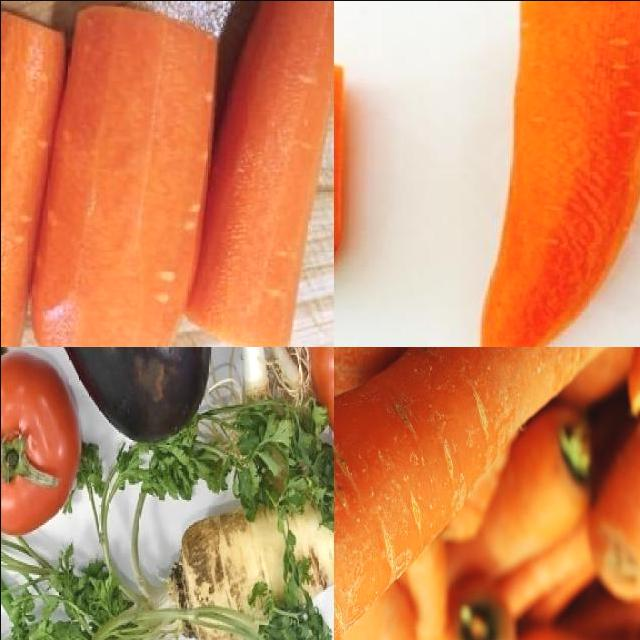carrot: (334, 347, 640, 640), (31, 1, 219, 347), (460, 1, 640, 347), (188, 1, 334, 347), (334, 347, 452, 640), (1, 1, 70, 347), (334, 347, 415, 640), (595, 347, 640, 598), (404, 584, 517, 640)
eggplant: (1, 347, 208, 445)
tomato: (1, 355, 73, 529)
